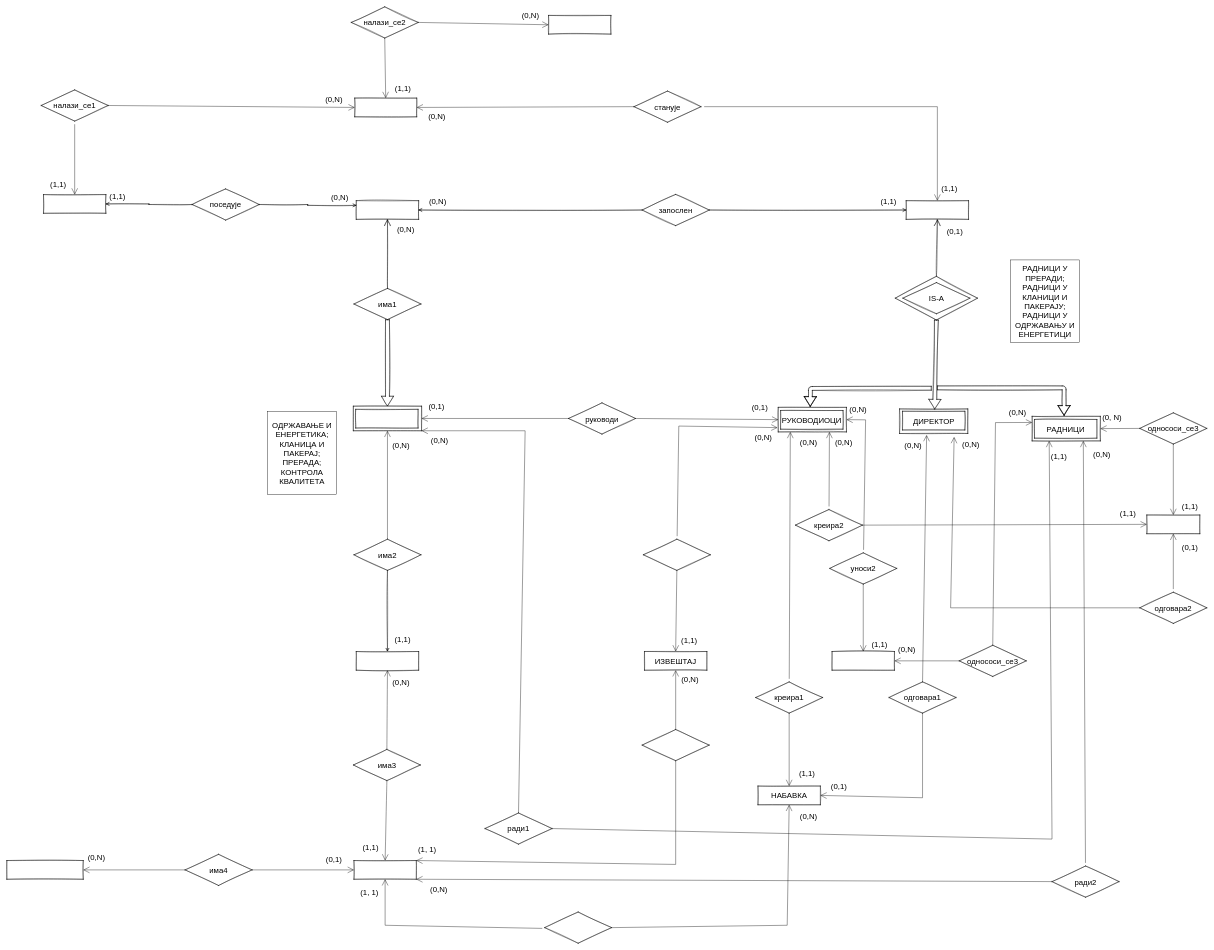
Image size: 1214x950. Some labels were removed from this diagram. Here are the shapes that lost their labels. From the top down, the box of each, then its label:
(548, 15, 611, 34): ДРЖАВА
(354, 98, 417, 117): ГРАД
(43, 194, 106, 213): ОБЈЕКАТ
(356, 200, 419, 219): ПРЕДУЗЕЋЕ
(906, 200, 969, 219): ЗАПОСЛЕНИ
(355, 409, 418, 428): РАДНА ЈЕДИНИЦА
(1146, 515, 1200, 534): ПРЕДЛОГ
(643, 539, 710, 570): уноси1
(356, 651, 419, 670): ПОГОН
(832, 651, 894, 670): ЗАПИСНИК
(642, 729, 709, 761): однососи_се1
(6, 860, 83, 879): ДОКУМЕНТАЦИЈА
(354, 860, 416, 879): МАШИНЕ И ОПРЕМА
(544, 912, 612, 943): однососи_се2
